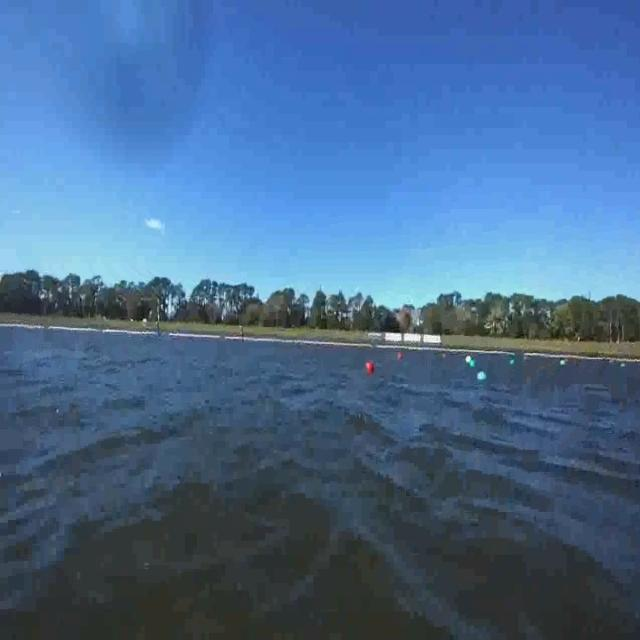green-buoy: (478, 372, 488, 383), (510, 356, 516, 372), (470, 358, 478, 368), (560, 360, 568, 365)
red-buoy: (396, 349, 404, 363), (365, 360, 373, 373)
